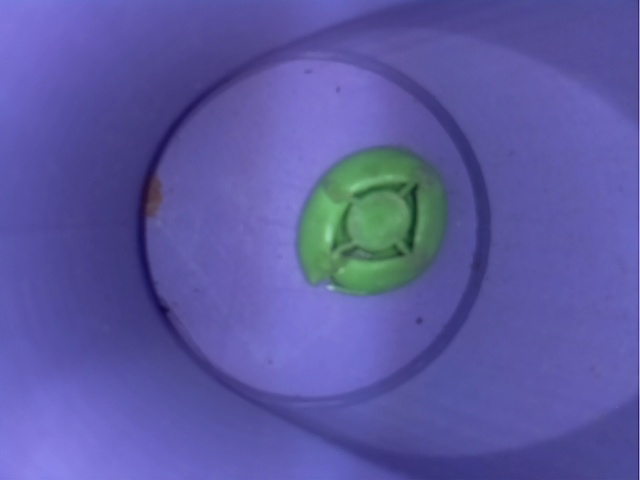bouchon: (276, 132, 456, 317)
